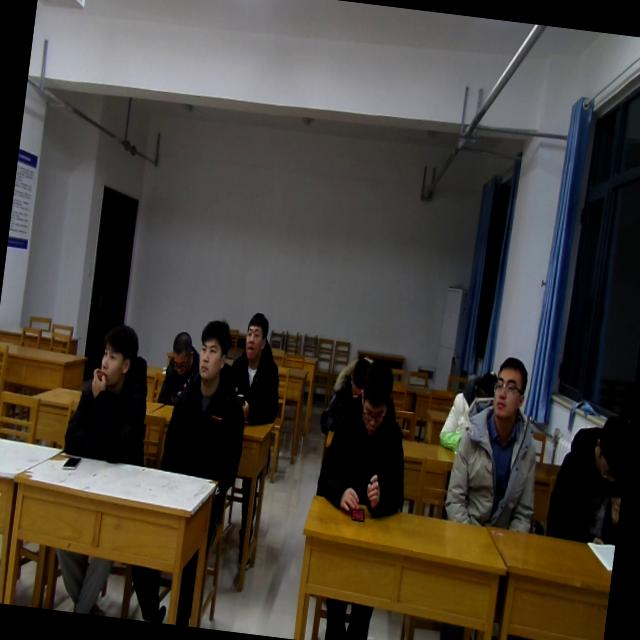bow: (436, 359, 502, 456), (316, 344, 376, 438)
down: (586, 400, 630, 488), (353, 353, 398, 437), (166, 323, 194, 377), (468, 362, 496, 406), (344, 351, 369, 396)
lookup: (92, 315, 143, 387), (485, 352, 530, 432), (192, 311, 235, 388), (238, 308, 272, 362)
sit: (440, 349, 554, 540), (314, 350, 421, 528), (155, 312, 259, 484), (60, 312, 164, 468), (541, 406, 630, 550), (224, 306, 290, 430), (156, 327, 203, 410)
